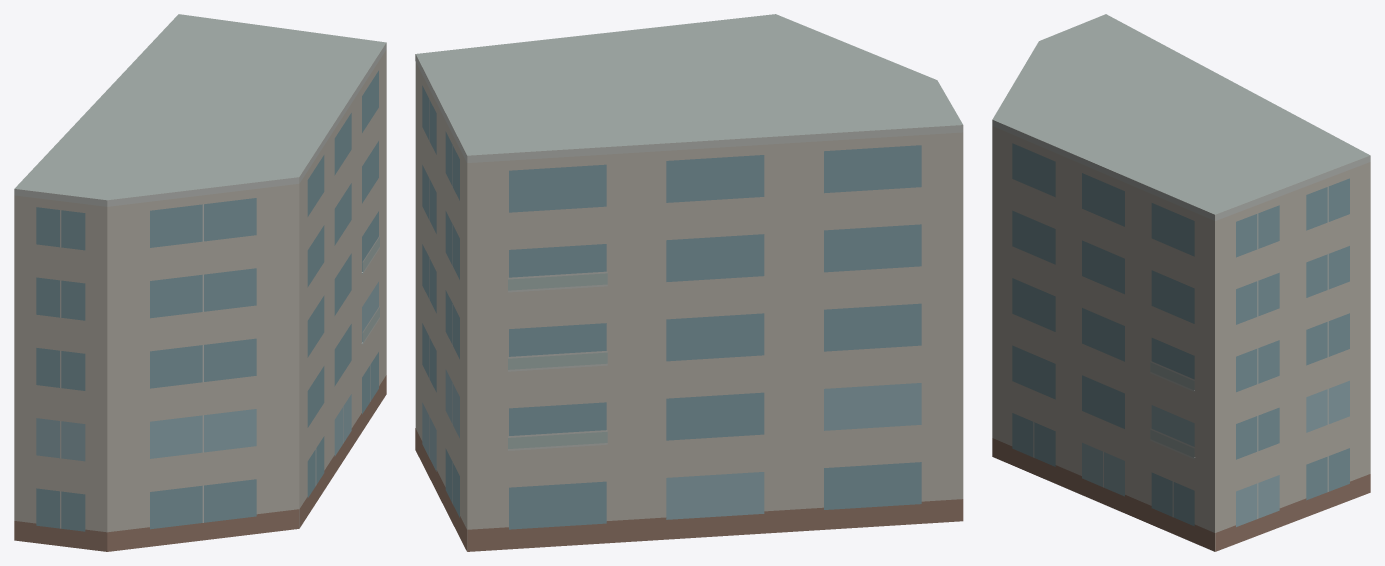
The model's file is survey-upis-33041176.glb.
3 views of the same model, side by side, from view 1: azimuth 30°, elevation 25°; view 2: azimuth 150°, elevation 25°; view 3: azimuth 270°, elevation 25° (orthographic). The views are drawn at different scales.
Visible parts, largest first — view 1: survey-upis-33041176.tmp; view 2: survey-upis-33041176.tmp; view 3: survey-upis-33041176.tmp.
Part boxes in pixels (x1=…): survey-upis-33041176.tmp: x1=14, y1=14, x2=386, y2=551; survey-upis-33041176.tmp: x1=415, y1=14, x2=963, y2=551; survey-upis-33041176.tmp: x1=992, y1=14, x2=1370, y2=551.
Size of the model in its own units: 16.62 by 13 by 13.23.
